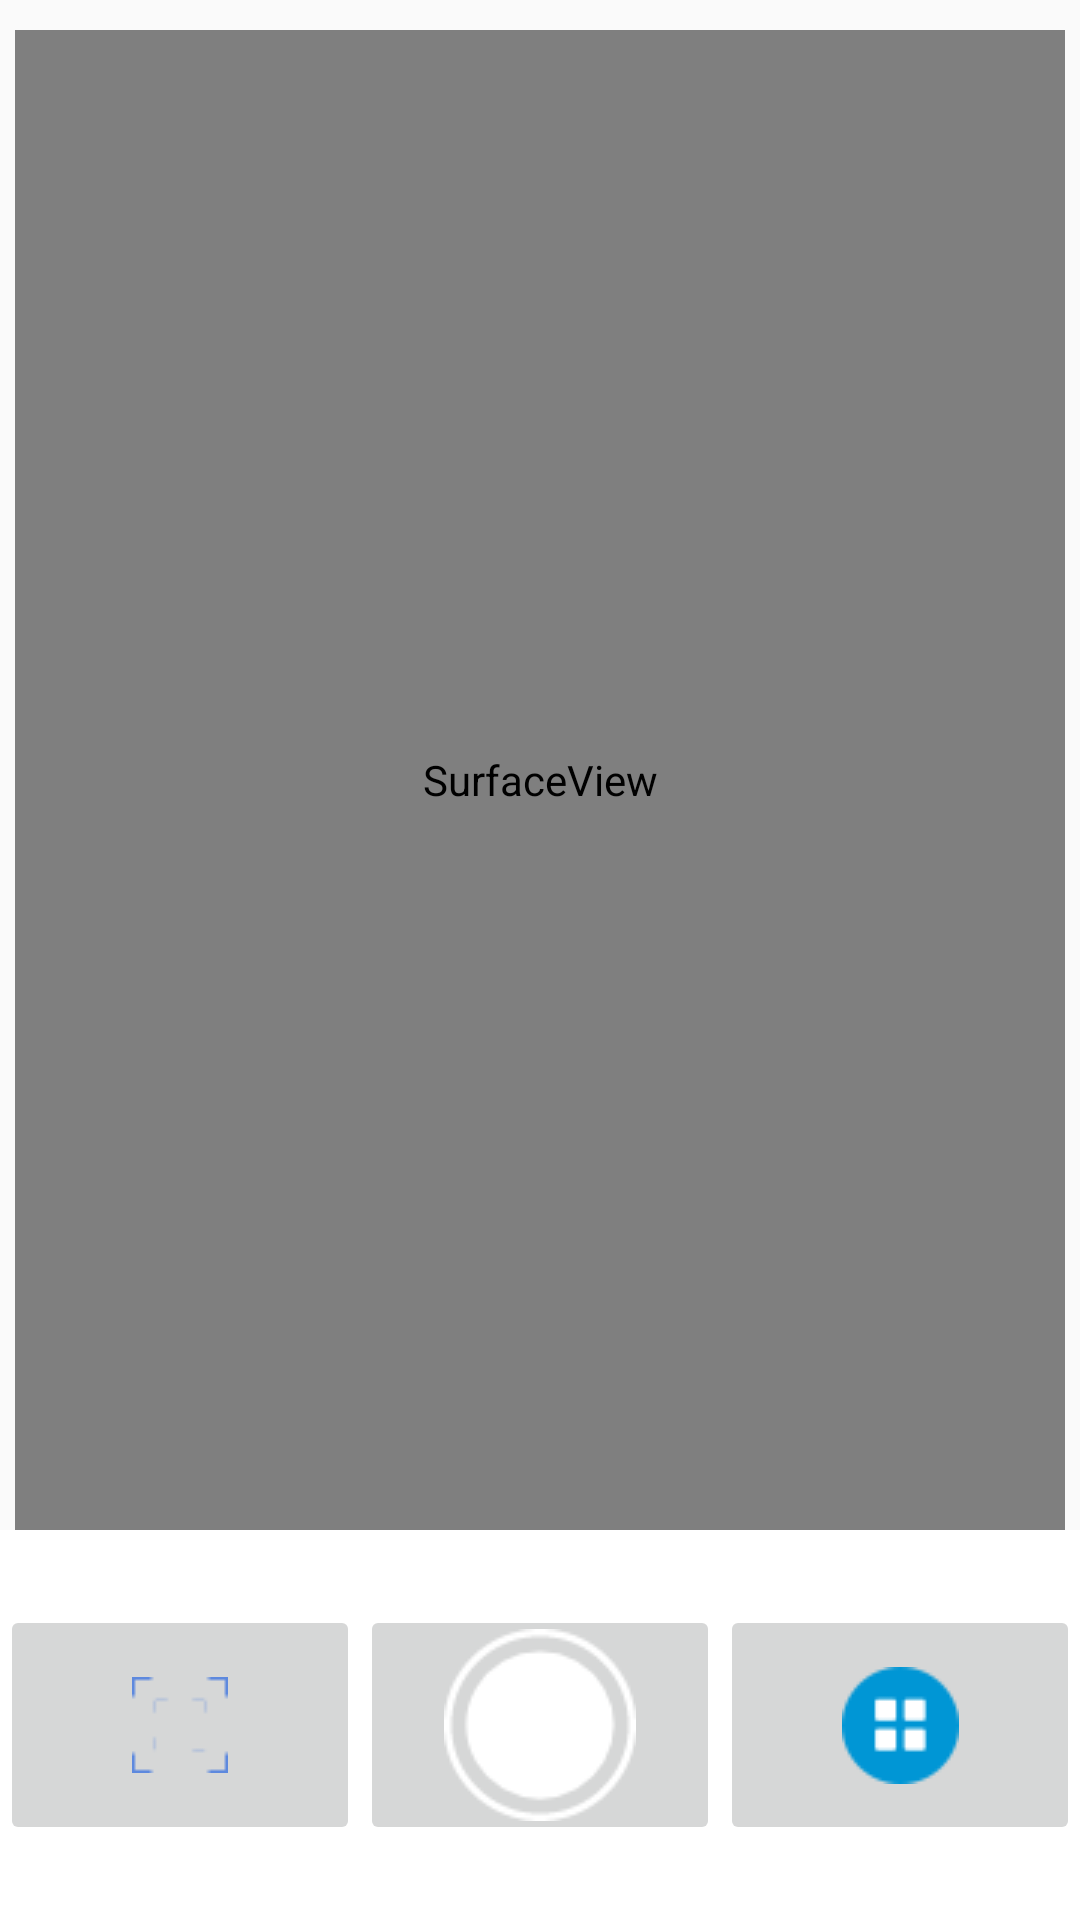

Named icons in this screenshot (1080 x 1920) and their bounding boxes, Rect(x1, y1, x2, y2):
camera: Rect(372, 1623, 708, 1827)
